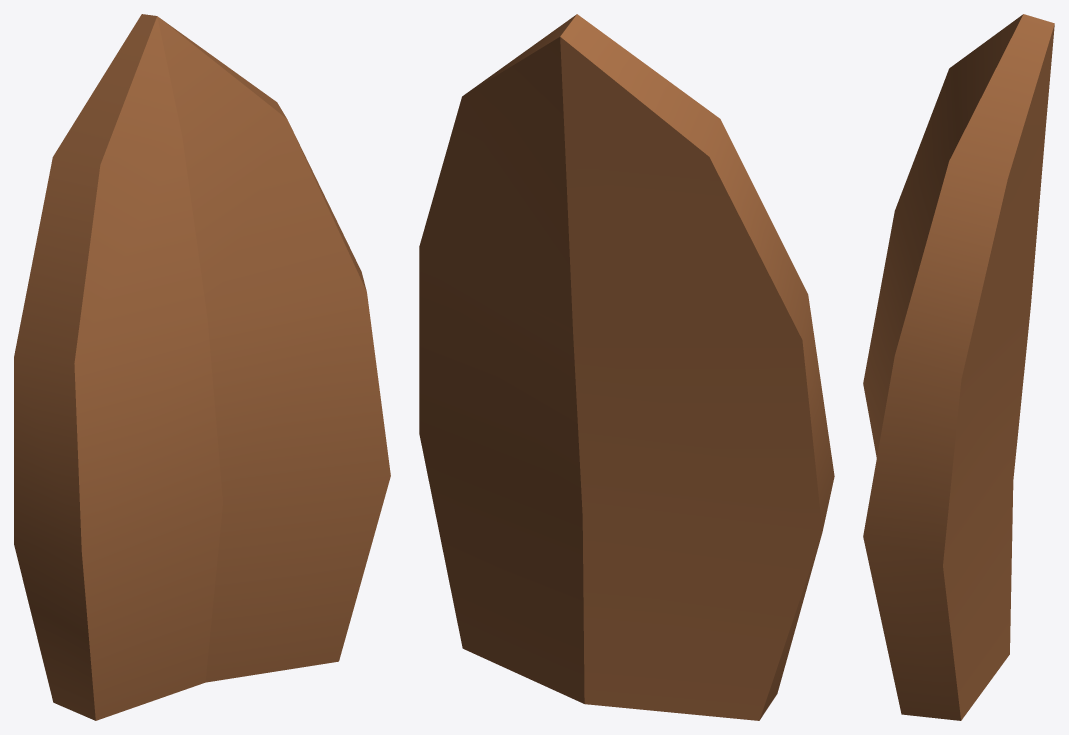
File: itch_kaykit_forest_grass_1_mesh.glb
3 renders of one model, left to right at view 1: azimuth 30°, elevation 25°; view 2: azimuth 150°, elevation 25°; view 3: azimuth 270°, elevation 25°, orthographic. The views are drawn at different scales.
Visible parts, largest first — view 1: Grass_1_Mesh; view 2: Grass_1_Mesh; view 3: Grass_1_Mesh.
Boxes of the visible parts, x1,y1,x2,y2 form: Grass_1_Mesh: (14, 14, 390, 720); Grass_1_Mesh: (419, 14, 834, 720); Grass_1_Mesh: (863, 14, 1054, 720).
Size of the model in its own units: 0.96 by 1.58 by 0.4295.
